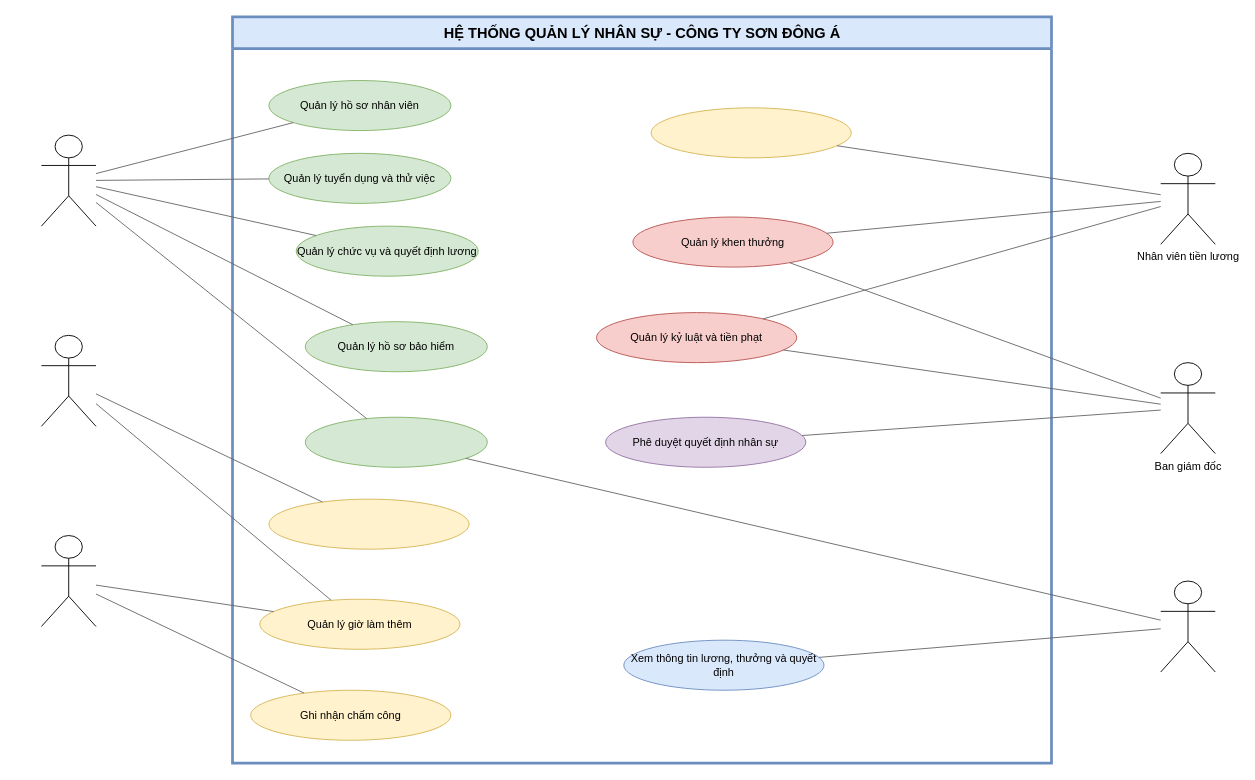
The diagram is 1255 pixels wide and 780 high, and some of its shapes have lost their labels. Each missing label, with the centre of its shape:
Lập kế hoạch tuần và phân công ca: (x=368, y=523)
Nhân viên: (x=1187, y=626)
Nhân viên chấm công: (x=68, y=581)
Nhân viên nhân sự: (x=68, y=180)
Quản lý bộ phận: (x=68, y=380)
Quản lý hợp đồng lao động: (x=395, y=441)
Tính lương và các khoản khấu trừ: (x=750, y=132)
